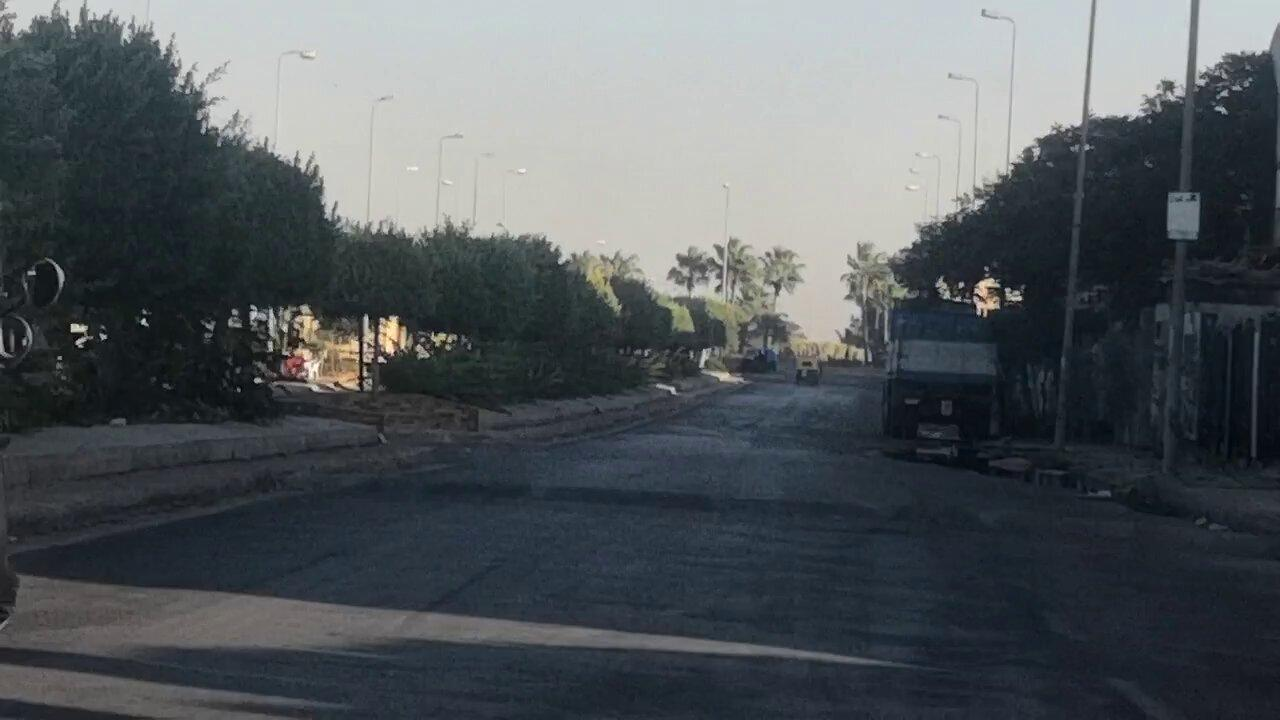Bump: (370, 473, 1280, 580)
